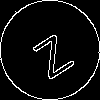Z: (25, 25, 76, 80)
